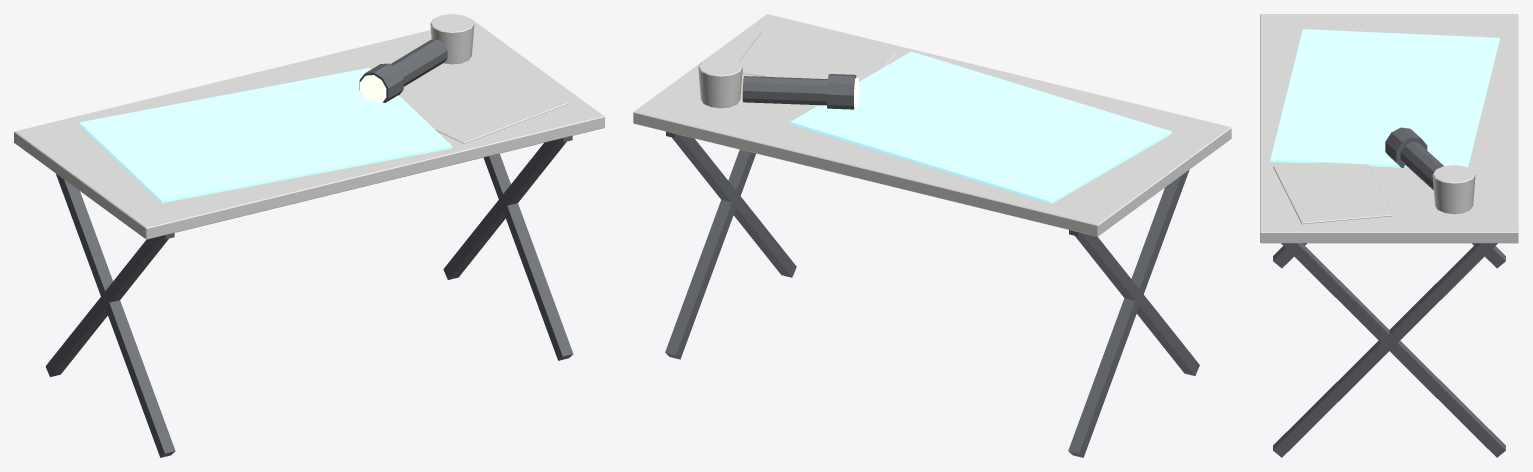
File: plan-table.glb
3 renders of one model, left to right at view 1: azimuth 30°, elevation 25°; view 2: azimuth 150°, elevation 25°; view 3: azimuth 270°, elevation 25°, orthographic. The views are drawn at different scales.
Parts seen in each view (by area): view 1: Table_Top, Table_Plan, Table_Frame, Table_TorchLens; view 2: Table_Top, Table_Plan, Table_Frame; view 3: Table_Top, Table_Plan, Table_Frame.
Boxes of the visible parts, box(x1,y1,x2,y2) form: Table_Top: box(14, 14, 604, 239); Table_Plan: box(79, 67, 452, 202); Table_Frame: box(45, 39, 573, 457); Table_TorchLens: box(360, 75, 386, 103); Table_Top: box(633, 14, 1231, 236); Table_Plan: box(790, 51, 1171, 203); Table_Frame: box(665, 74, 1199, 457); Table_Top: box(1260, 14, 1518, 243); Table_Plan: box(1270, 29, 1499, 167); Table_Frame: box(1273, 127, 1505, 457).
Size of the model in its own units: 6 by 3.47 by 3.
